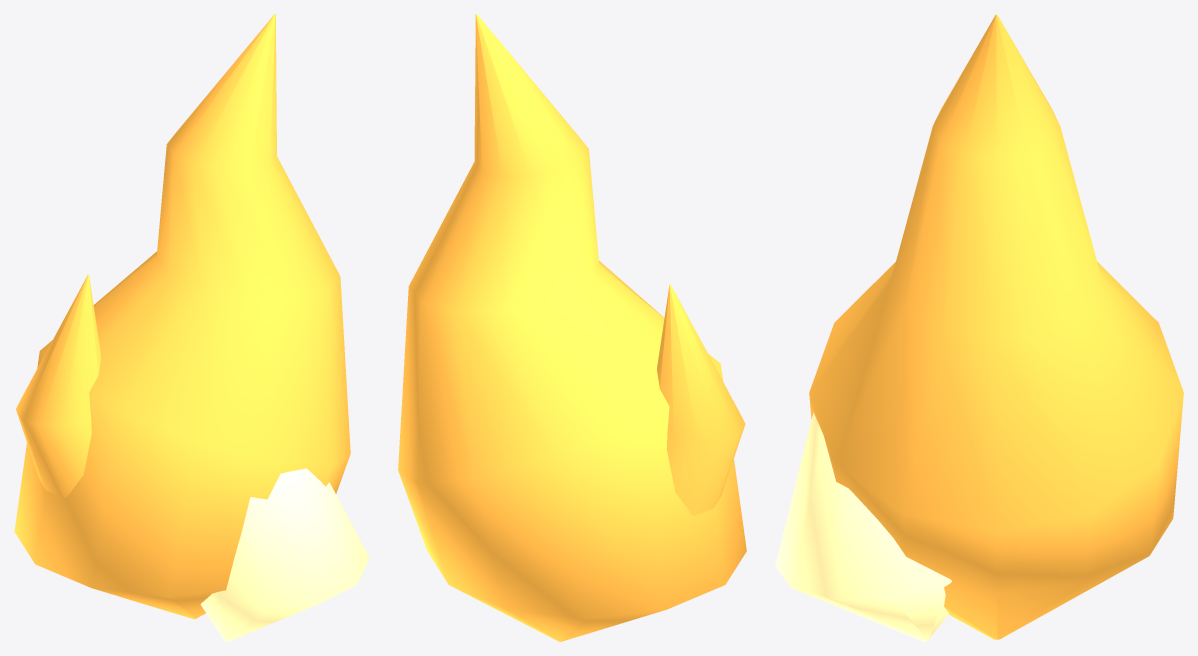
File: flame.glb
3 renders of one model, left to right at view 1: azimuth 30°, elevation 25°; view 2: azimuth 150°, elevation 25°; view 3: azimuth 270°, elevation 25°, orthographic. The views are drawn at different scales.
Bounding box in the file's own units: 11.47 × 20.96 × 11.57.
